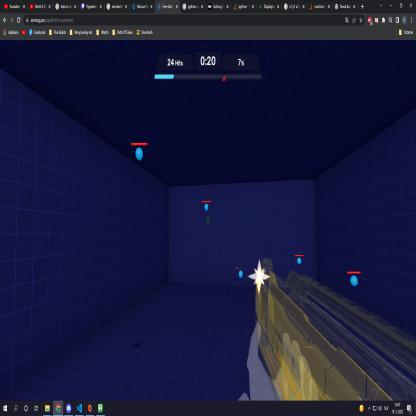sphere: (135, 146, 144, 163), (350, 275, 358, 287), (238, 270, 244, 279), (204, 204, 209, 212), (297, 258, 302, 265)
